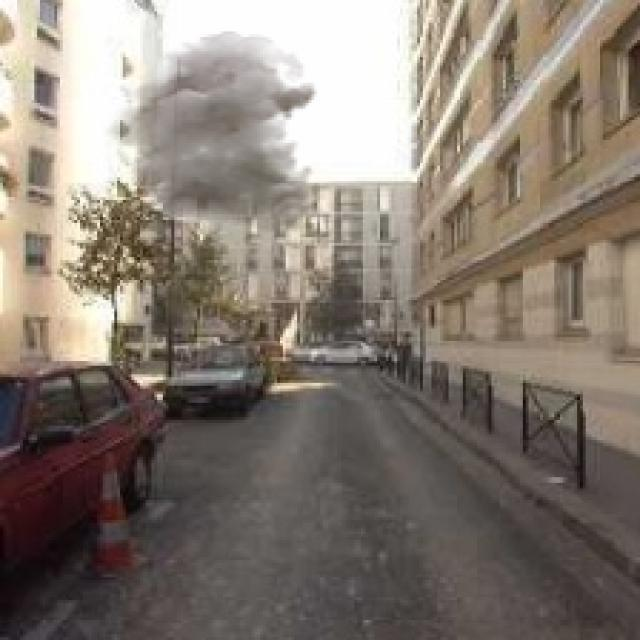Smoke: (103, 32, 323, 235)
